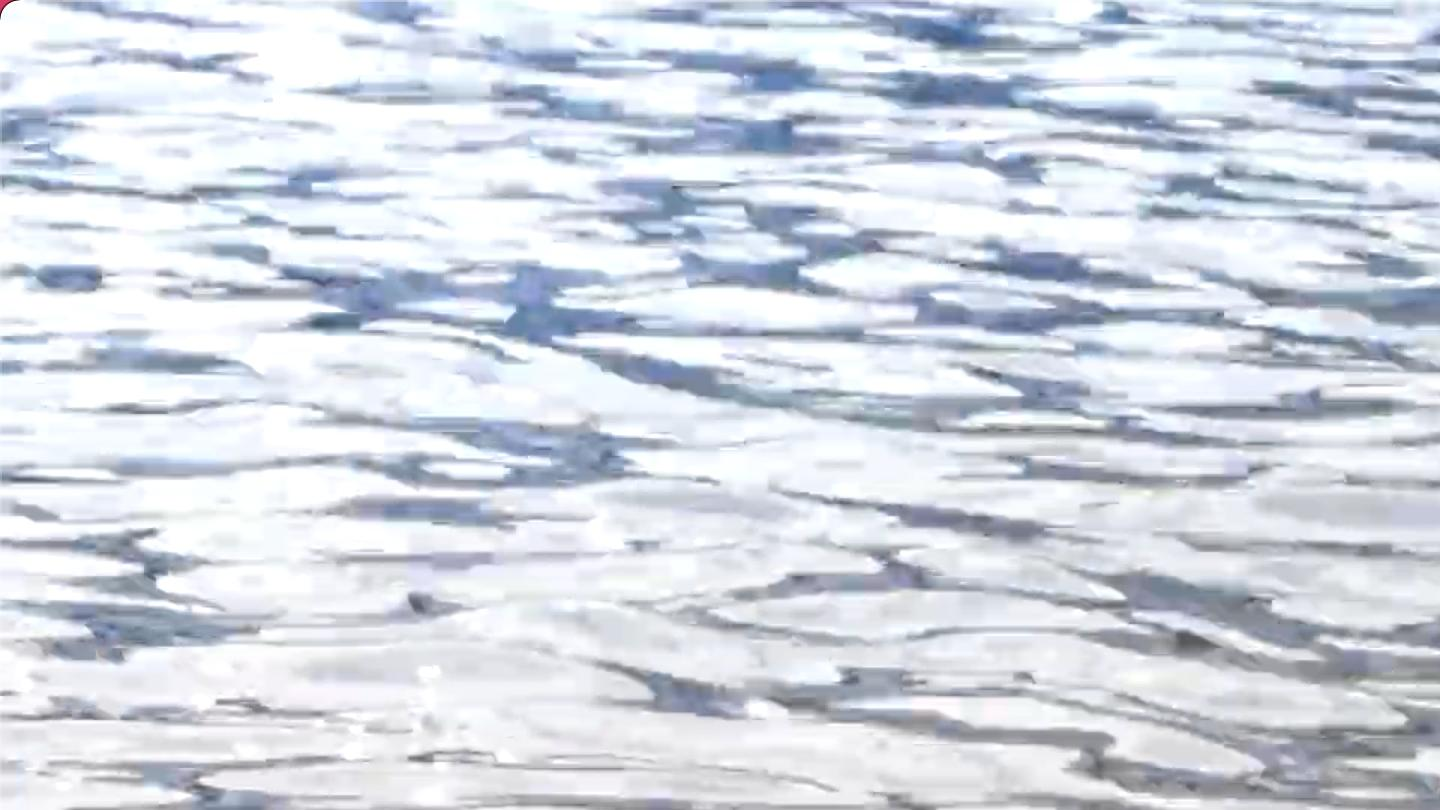Chinstrap Penguin: (1235, 420, 1440, 810)
